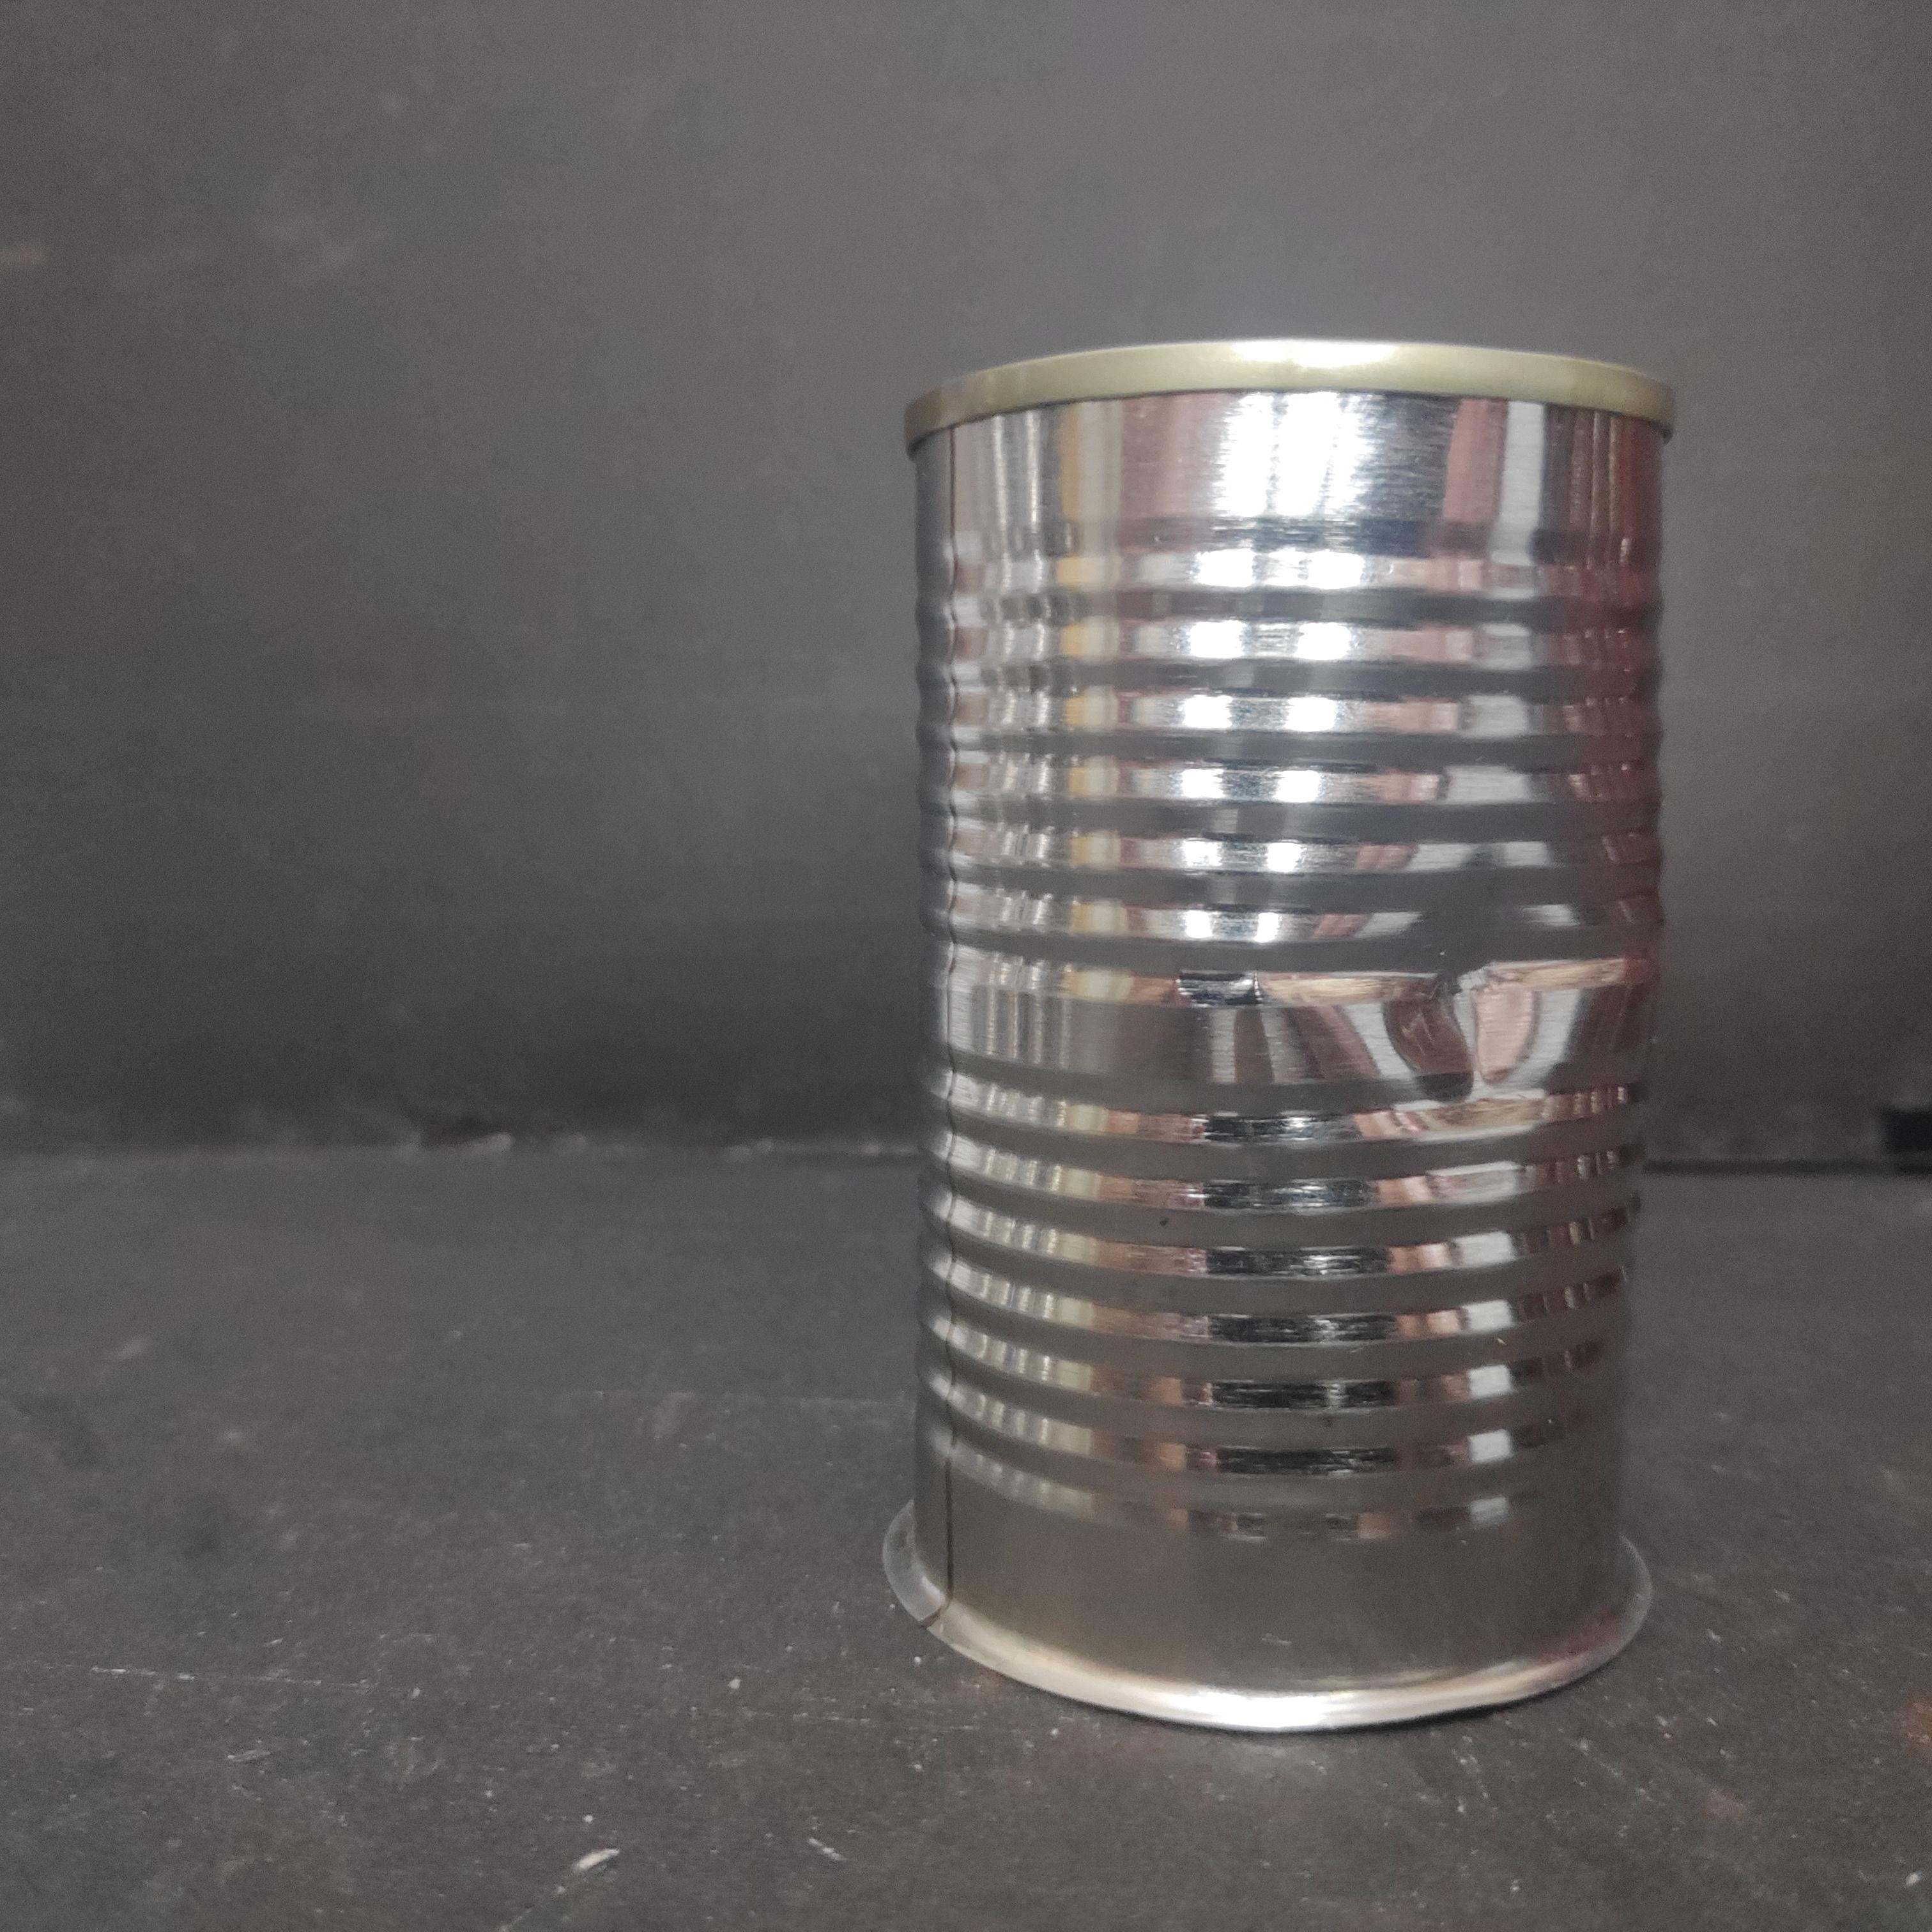Minor Defect: (890, 333, 1688, 1748)
